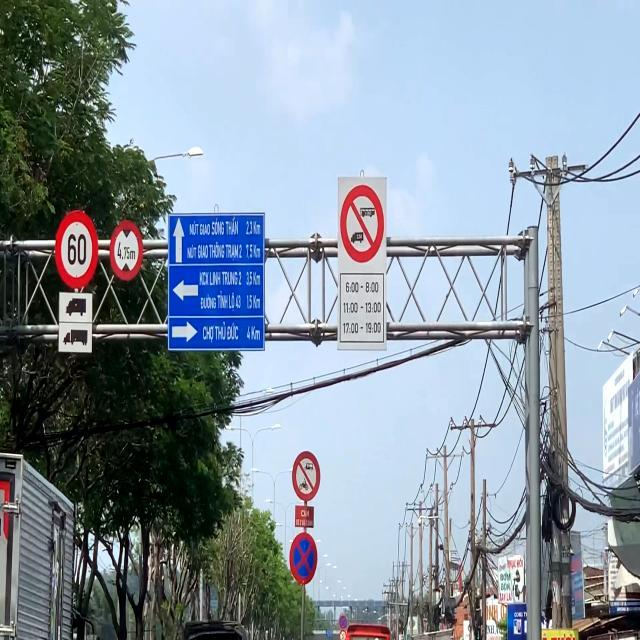Cam dung xe va do xe: (290, 532, 318, 585), (339, 615, 347, 629)
Han che chieu cao: (110, 220, 144, 282)
Toc do toi da cho phep: (55, 209, 98, 289)
